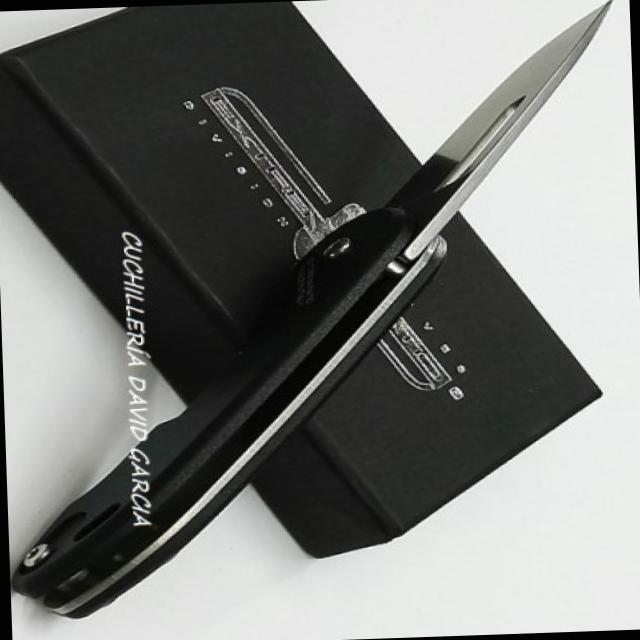knife: (370, 0, 631, 232)
